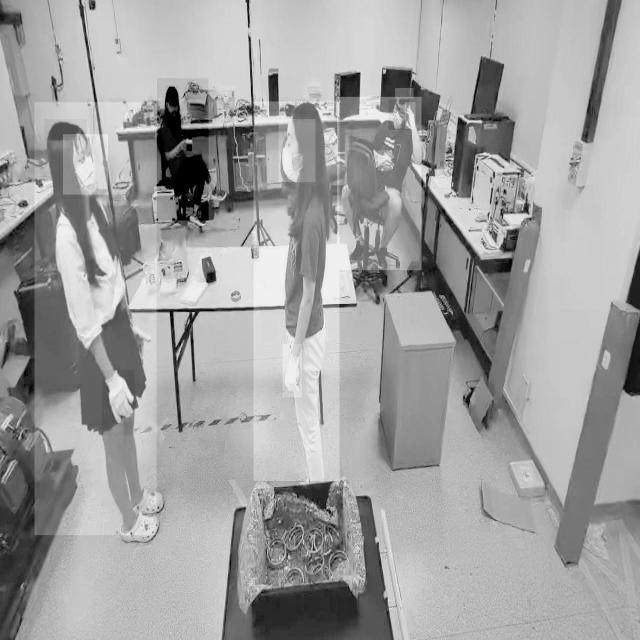face_mask: (63, 134, 108, 195), (278, 119, 316, 182), (388, 100, 409, 130)
face_nomask: (166, 99, 178, 119)
hand_glove: (102, 370, 135, 436), (282, 344, 302, 398)
hand_noglove: (378, 150, 392, 171), (405, 102, 415, 129), (178, 136, 192, 151)
head_nohelmet: (45, 119, 87, 141), (286, 100, 320, 122), (395, 88, 414, 99), (166, 85, 178, 97)
person: (35, 102, 157, 536), (254, 101, 340, 482), (337, 97, 422, 271), (157, 78, 209, 222)
